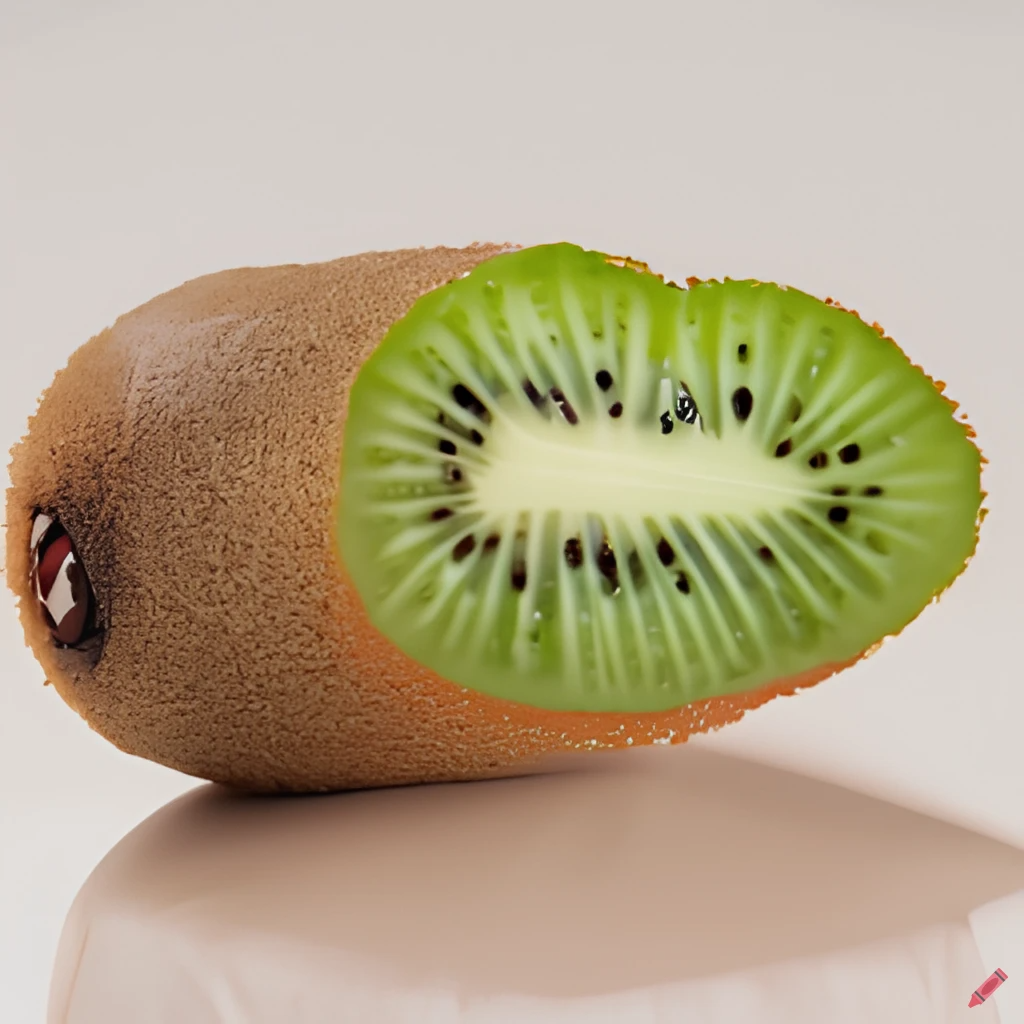Kiwi: (0, 144, 1003, 826)
